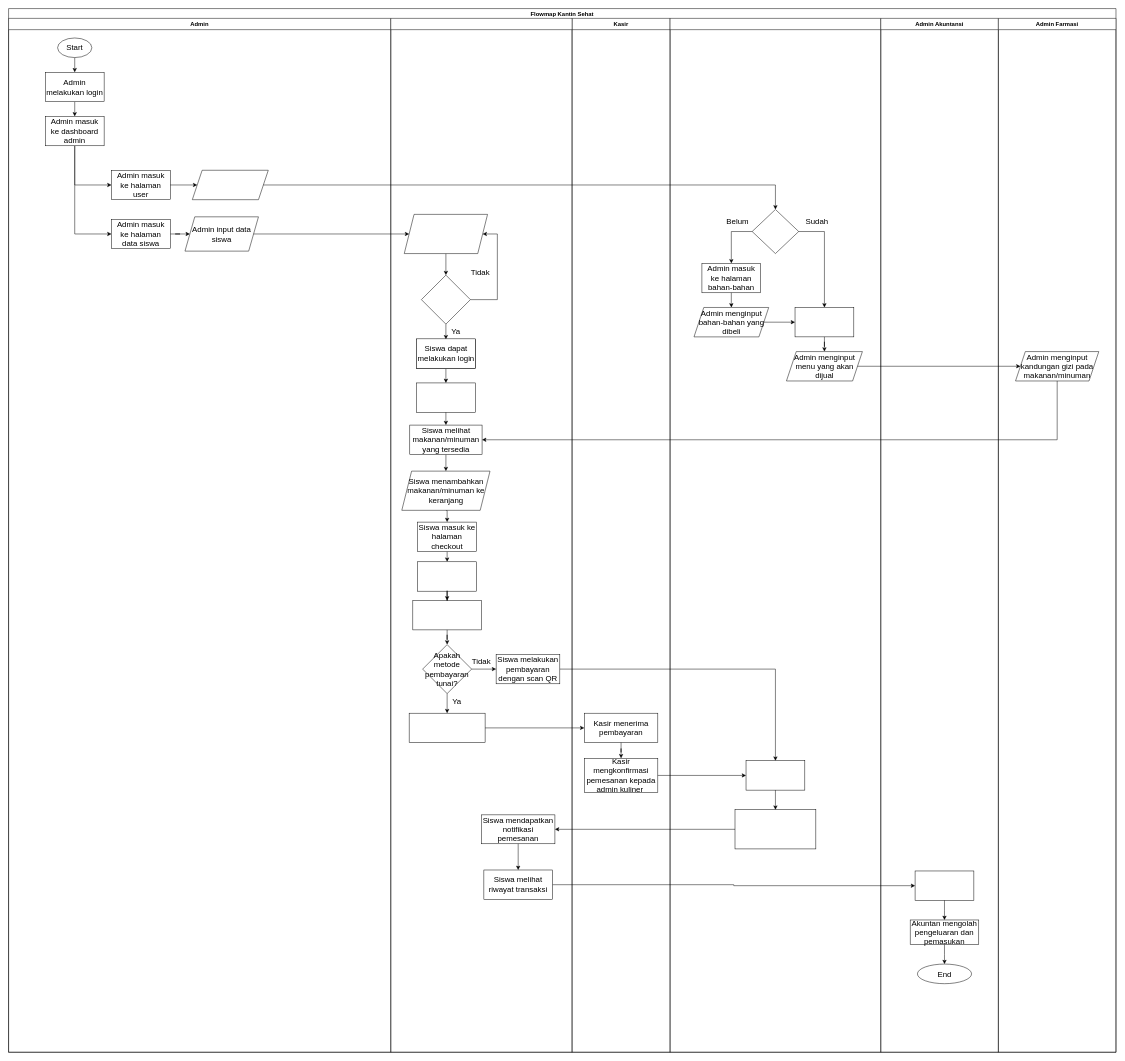
The diagram is 1125 pixels wide and 1061 high, and some of its shapes have lost their labels. Each missing label, with the box of its shape:
Admin akuntan melihat semua transaksi: (915, 870, 974, 900)
Admin input data pegawai(admin lain): (192, 170, 268, 200)
Admin Kuliner: (670, 18, 881, 1052)
Admin masuk ke halaman menu: (795, 307, 854, 337)
Admin menerima pemesanan: (746, 760, 805, 790)
Admin menkonfirmasi makanan/minuman sudah selesai dibuat: (735, 809, 816, 849)
Apakah data sesuai?: (421, 275, 470, 324)
Apakah sudah input bahan-bahan?: (752, 209, 799, 254)
Pelanggan: (390, 18, 572, 1052)
Siswa checkout makanan/minuman yang dipilih: (412, 600, 481, 630)
Siswa masuk ke landing page: (416, 382, 475, 412)
Siswa melakukan pembayaran terlebih dahulu di kasir: (409, 713, 485, 743)
Siswa melakukan verifikasi dengan menginput data diri: (404, 214, 488, 254)
Siswa memilih metode pembayaran: (417, 561, 477, 591)
